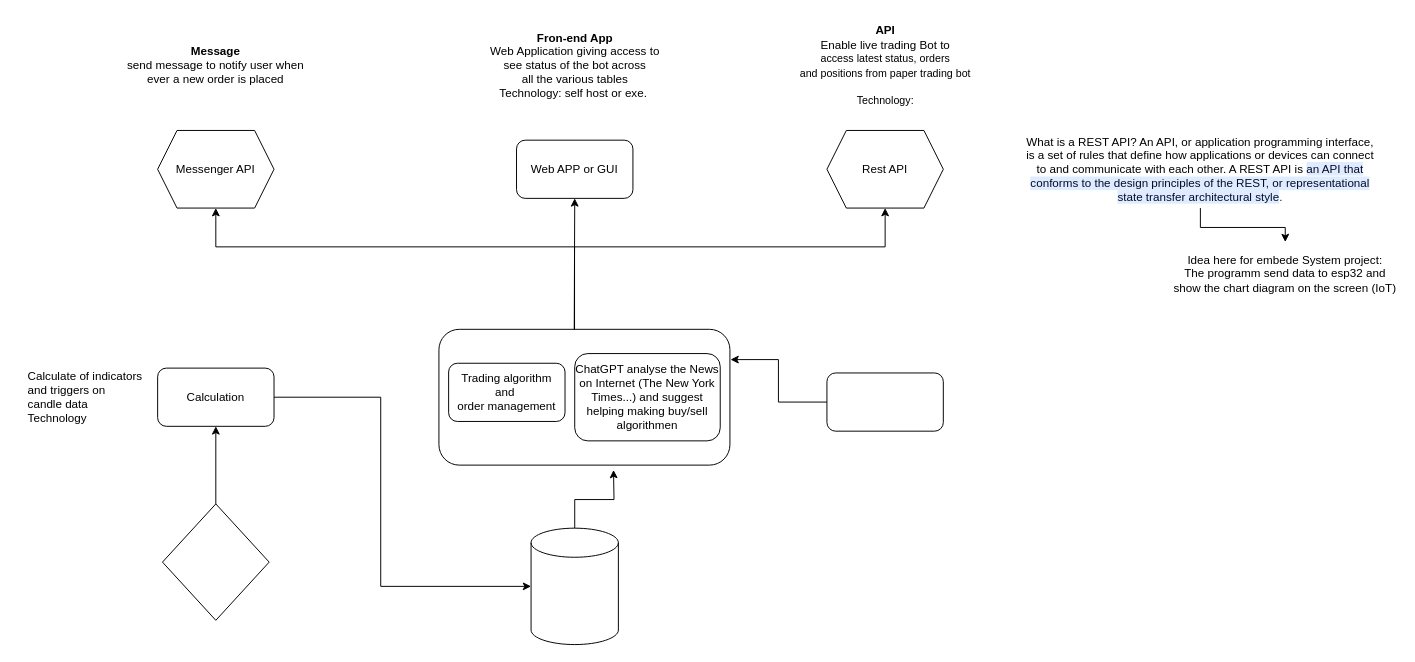
Image size: 1415x662. Some labels were removed from this diagram. The shapes that lost their labels are listed below. From the top down, each one's centre as x and y in pixels, then its label:
the point at 884,401: Command
the point at 215,561: Market data API
the point at 574,586: Data base
